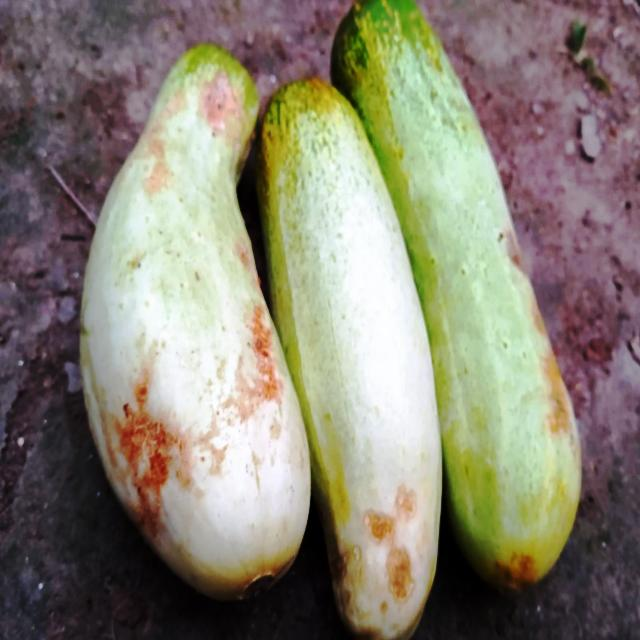Belly-Rot: (496, 222, 575, 447), (114, 364, 198, 536), (331, 482, 426, 622), (233, 239, 285, 417), (197, 60, 248, 145)
